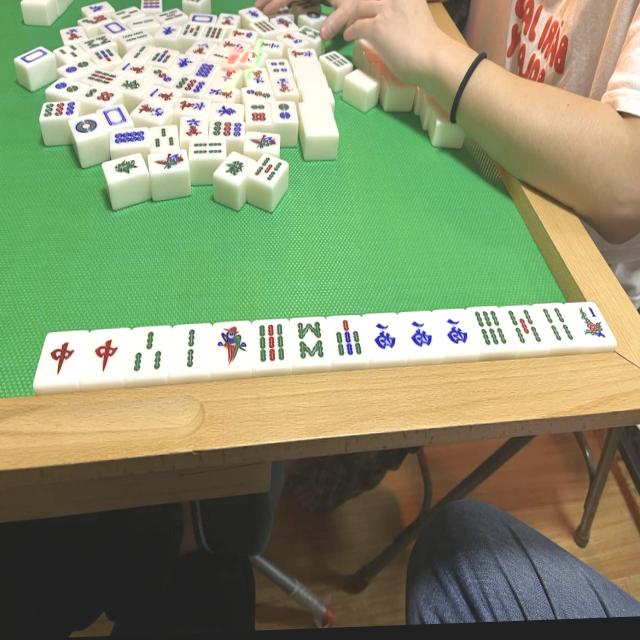f1: (577, 302, 607, 346)
s1: (216, 322, 251, 371)
s2: (173, 326, 209, 375)
s3: (129, 329, 167, 378)
s4: (540, 304, 573, 346)
s5: (508, 306, 541, 349)
s6: (473, 307, 506, 351)
s7: (332, 318, 363, 361)
s8: (292, 318, 324, 365)
s9: (256, 322, 289, 369)
west: (406, 314, 436, 356), (370, 316, 400, 357), (443, 312, 471, 353)
zhong: (88, 332, 125, 380), (45, 336, 79, 382)
